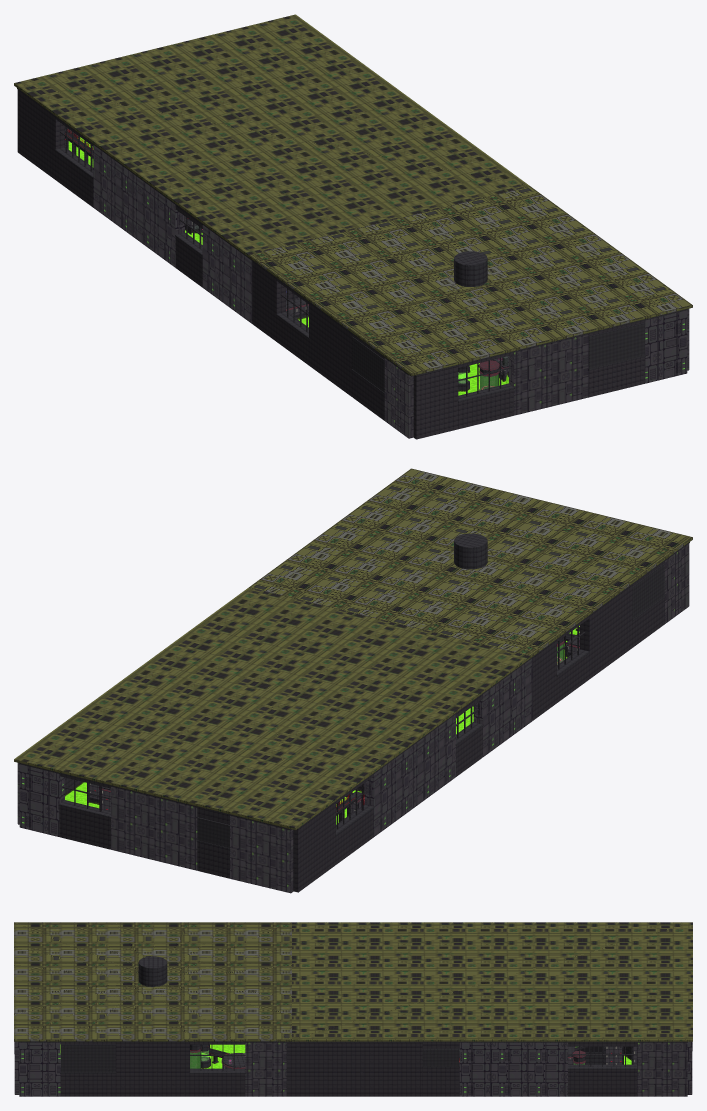
Rendered from level_mobile.glb.
3 views of the same model, one above another, from view 1: azimuth 30°, elevation 25°; view 2: azimuth 150°, elevation 25°; view 3: azimuth 270°, elevation 25° (orthographic). The views are drawn at different scales.
Parts seen in each view (by area): view 1: Ceiling__ceiling_b, Ceiling__ceiling, M_wall_0_1, M_wall_works_0_0, M_wall_slimed_0_1, M_wall_0_0, M_frame_0_1, M_wall_works_0_1, M_structure_b_0_1, M_structure_b_0_0, Ceiling__structure_b, M_frame_0_0; view 2: Ceiling__ceiling_b, Ceiling__ceiling, M_wall_works_0_0, M_wall_slimed_0_0, M_wall_0_0, M_wall_0_1, M_structure_b_0_0, M_frame_0_0, M_wall_slimed_0_1, M_frame_0_1, Ceiling__structure_b, M_structure_b_0_1 (+1 smaller); view 3: Ceiling__ceiling_b, Ceiling__ceiling, M_wall_0_0, M_wall_0_1, M_wall_works_0_0, M_wall_slimed_0_0, M_wall_works_0_1, M_wall_slimed_0_1, M_frame_0_1, M_structure_b_0_0, M_structure_b_0_1, M_frame_0_0 (+4 smaller).
Part boxes in pixels (left/top/right/bottom): Ceiling__ceiling_b: left=14, top=14, right=529, bottom=256; Ceiling__ceiling: left=248, top=186, right=692, bottom=376; M_wall_0_1: left=252, top=261, right=645, bottom=439; M_wall_works_0_0: left=93, top=145, right=252, bottom=323; M_wall_slimed_0_1: left=384, top=334, right=588, bottom=438; M_wall_0_0: left=17, top=89, right=202, bottom=287; M_frame_0_1: left=280, top=288, right=644, bottom=396; M_wall_works_0_1: left=644, top=308, right=689, bottom=383; M_structure_b_0_1: left=252, top=260, right=687, bottom=402; M_structure_b_0_0: left=17, top=88, right=252, bottom=260; Ceiling__structure_b: left=454, top=251, right=487, bottom=286; M_frame_0_0: left=59, top=127, right=202, bottom=248; Ceiling__ceiling_b: left=14, top=587, right=530, bottom=830; Ceiling__ceiling: left=249, top=468, right=692, bottom=658; M_wall_works_0_0: left=19, top=658, right=532, bottom=836; M_wall_slimed_0_0: left=17, top=763, right=293, bottom=893; M_wall_0_0: left=59, top=694, right=482, bottom=892; M_wall_0_1: left=532, top=561, right=664, bottom=720; M_structure_b_0_0: left=19, top=657, right=532, bottom=849; M_frame_0_0: left=62, top=707, right=478, bottom=847; M_wall_slimed_0_1: left=664, top=543, right=689, bottom=623; M_frame_0_1: left=557, top=563, right=664, bottom=669; Ceiling__structure_b: left=454, top=533, right=487, bottom=569; M_structure_b_0_1: left=533, top=542, right=689, bottom=676; Ceiling__ceiling_b: left=292, top=922, right=692, bottom=1041; Ceiling__ceiling: left=14, top=922, right=291, bottom=1041; M_wall_0_0: left=286, top=1042, right=636, bottom=1096; M_wall_0_1: left=60, top=1042, right=245, bottom=1096; M_wall_works_0_0: left=459, top=1041, right=692, bottom=1096; M_wall_slimed_0_0: left=637, top=1042, right=687, bottom=1096; M_wall_works_0_1: left=14, top=1041, right=60, bottom=1096; M_wall_slimed_0_1: left=245, top=1042, right=286, bottom=1096; M_frame_0_1: left=61, top=1044, right=245, bottom=1072; M_structure_b_0_0: left=286, top=1041, right=692, bottom=1069; M_structure_b_0_1: left=14, top=1041, right=286, bottom=1073; M_frame_0_0: left=422, top=1046, right=636, bottom=1066.
Bounding box in the file's own units: 121 × 37.84 × 295.
32 materials, 31 textured.
